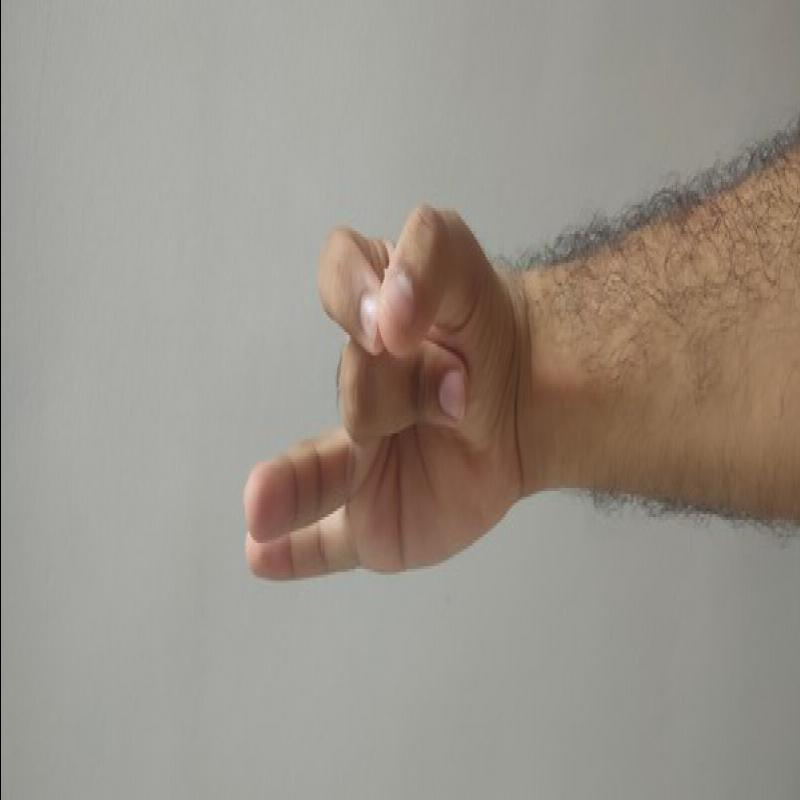Katakam: (221, 193, 540, 603)
